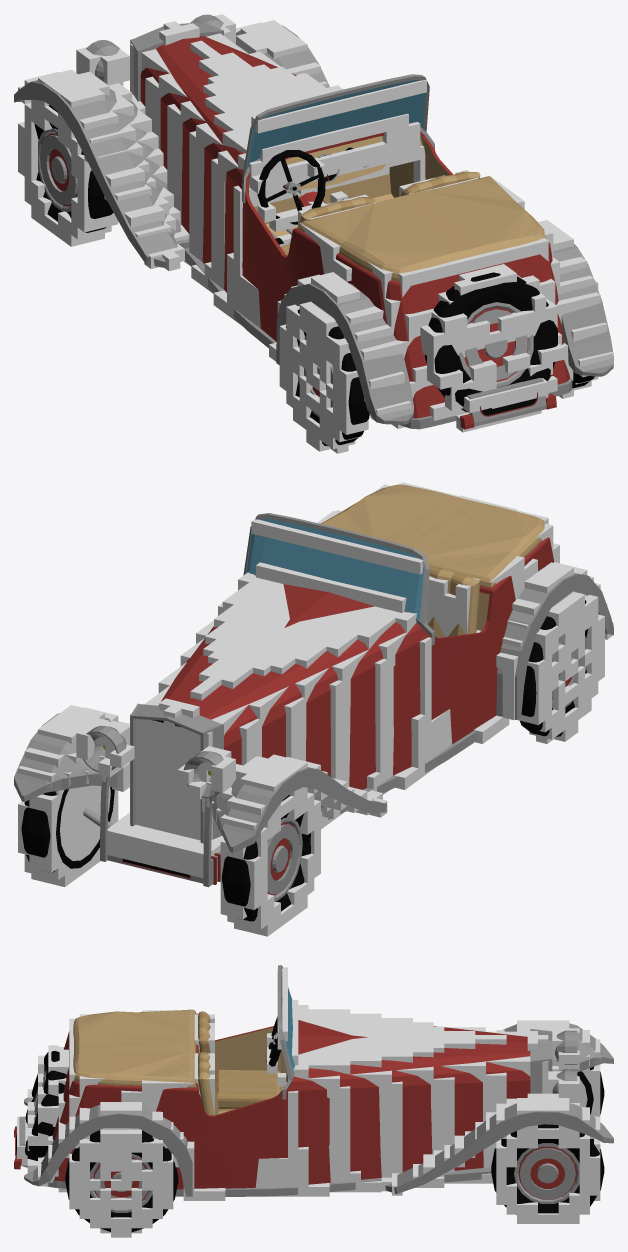
Rendered from 14bee7cd-e02e-11ec-a89e-bca8a6eea024.glb.
3 renders of one model, top to bottom at view 1: azimuth 30°, elevation 25°; view 2: azimuth 150°, elevation 25°; view 3: azimuth 270°, elevation 25°, orthographic. The views are drawn at different scales.
Parts seen in each view (by area): view 1: Original_Object, Remeshed_Object; view 2: Remeshed_Object, Original_Object; view 3: Original_Object, Remeshed_Object.
Part boxes in pixels (left/top/right/bottom): Original_Object: left=14, top=14, right=613, bottom=446; Remeshed_Object: left=18, top=14, right=613, bottom=453; Remeshed_Object: left=18, top=482, right=613, bottom=936; Original_Object: left=14, top=484, right=613, bottom=921; Original_Object: left=14, top=965, right=613, bottom=1232; Remeshed_Object: left=17, top=967, right=600, bottom=1237.
Size of the model in its own units: 2.23 by 2.05 by 5.71.
